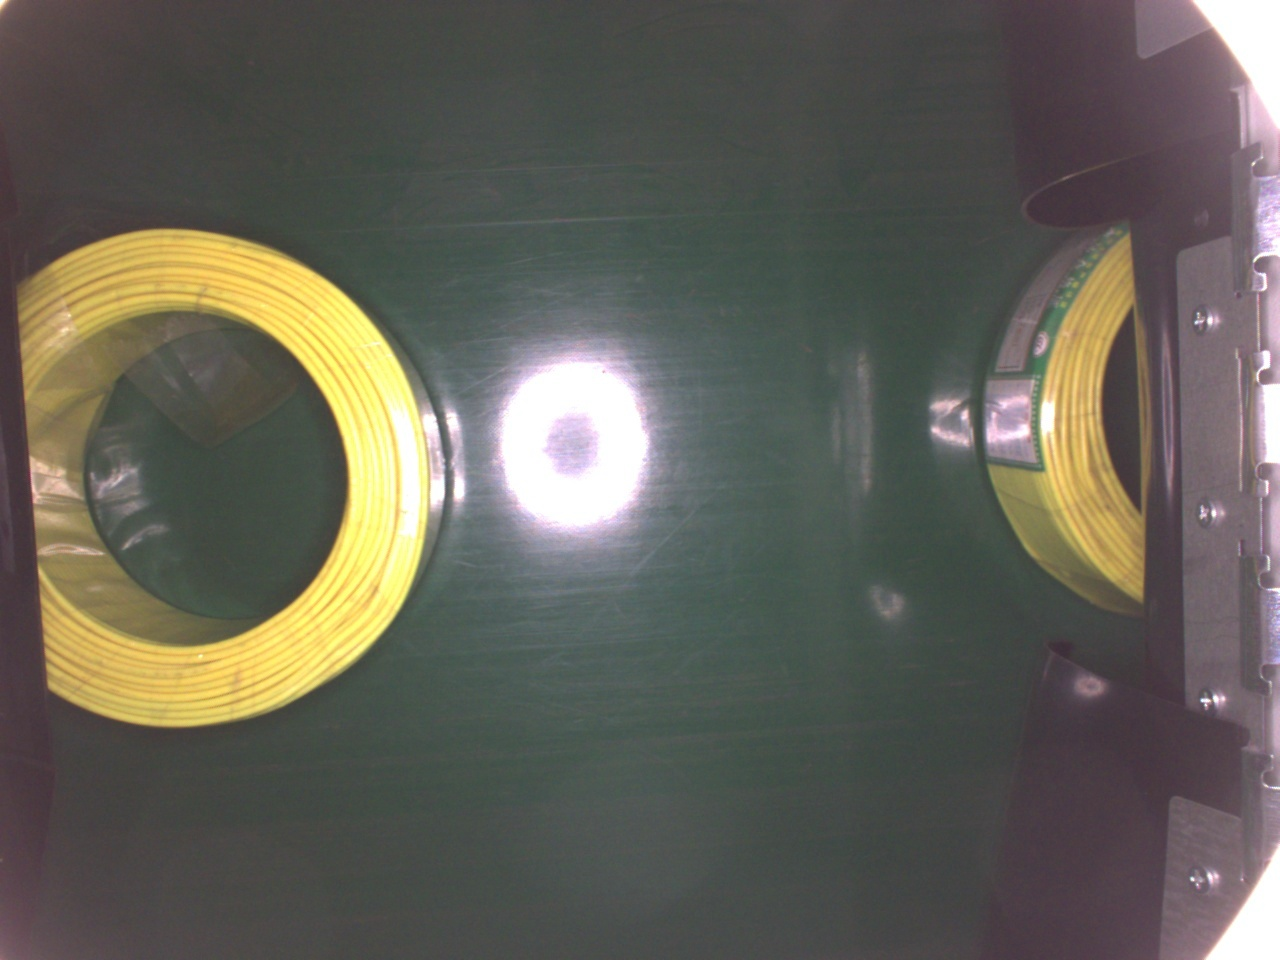yellow: (0, 231, 446, 729), (978, 219, 1148, 616)
